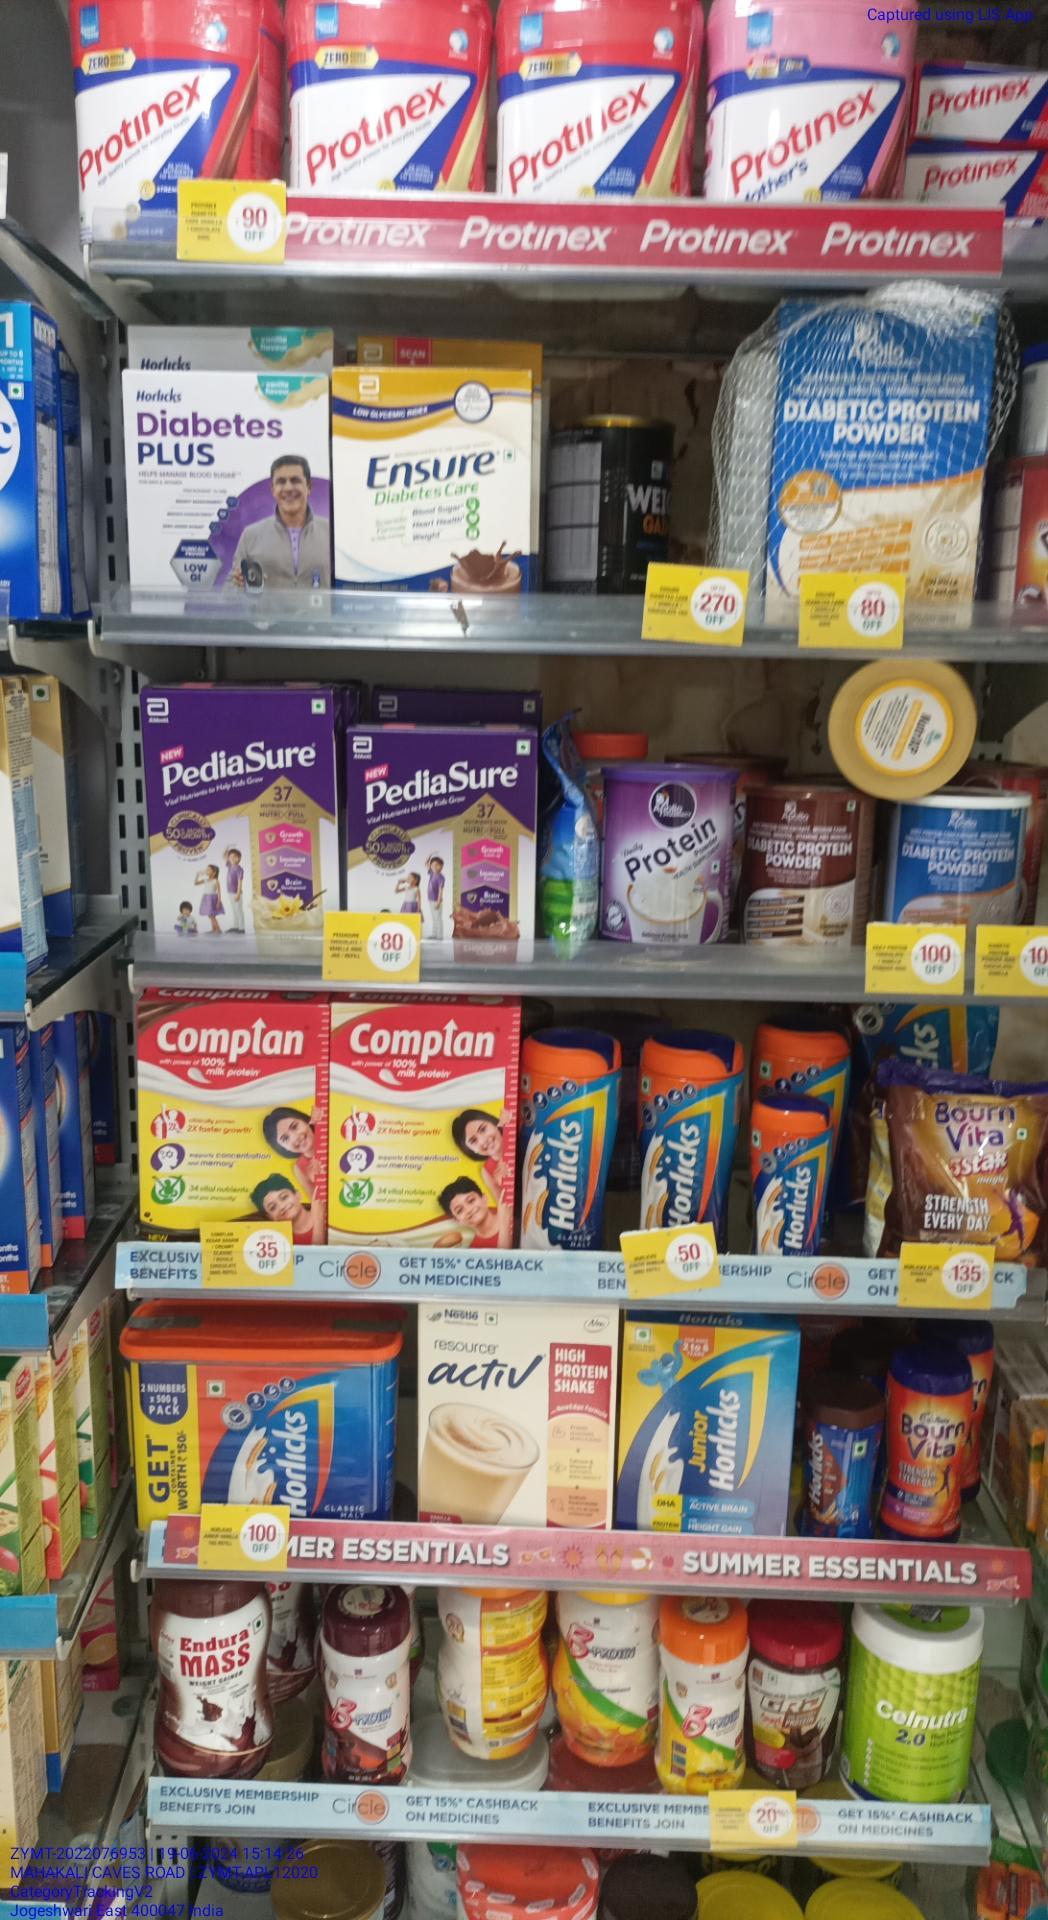BOURN_VITA_200_G_JAR: (887, 1356, 972, 1543)
BOURN_VITA_FIVE_STAR_MAGIC_500_G_POUCH: (891, 1074, 1048, 1243)
HORLICK_CLASSIC_MALT_200_G_JAR: (746, 1099, 827, 1254)
HORLICK_CLASSIC_MALT_500_G_JAR: (520, 1032, 612, 1254), (636, 1039, 736, 1228)
HORLICK_MALT_1_KG_CONTAINER: (121, 1323, 395, 1516)
PROTINEX_CHOCOLATE_400_G_JAR: (75, 5, 265, 183)
PROTINEX_VANILLA_400_G_JAR: (284, 0, 489, 192), (496, 0, 696, 195)
